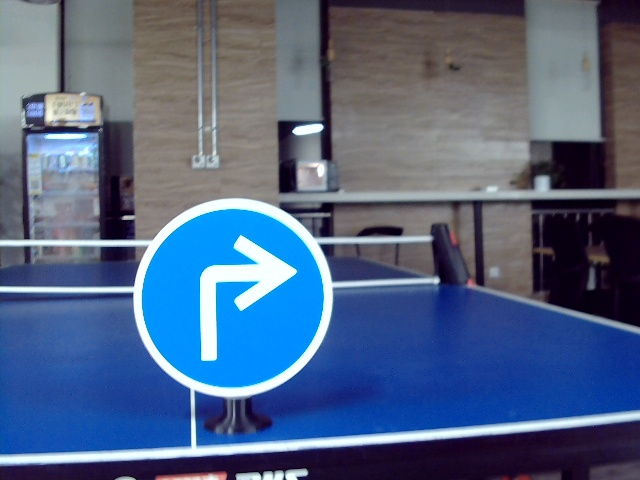turn_right: (190, 230, 293, 364)
